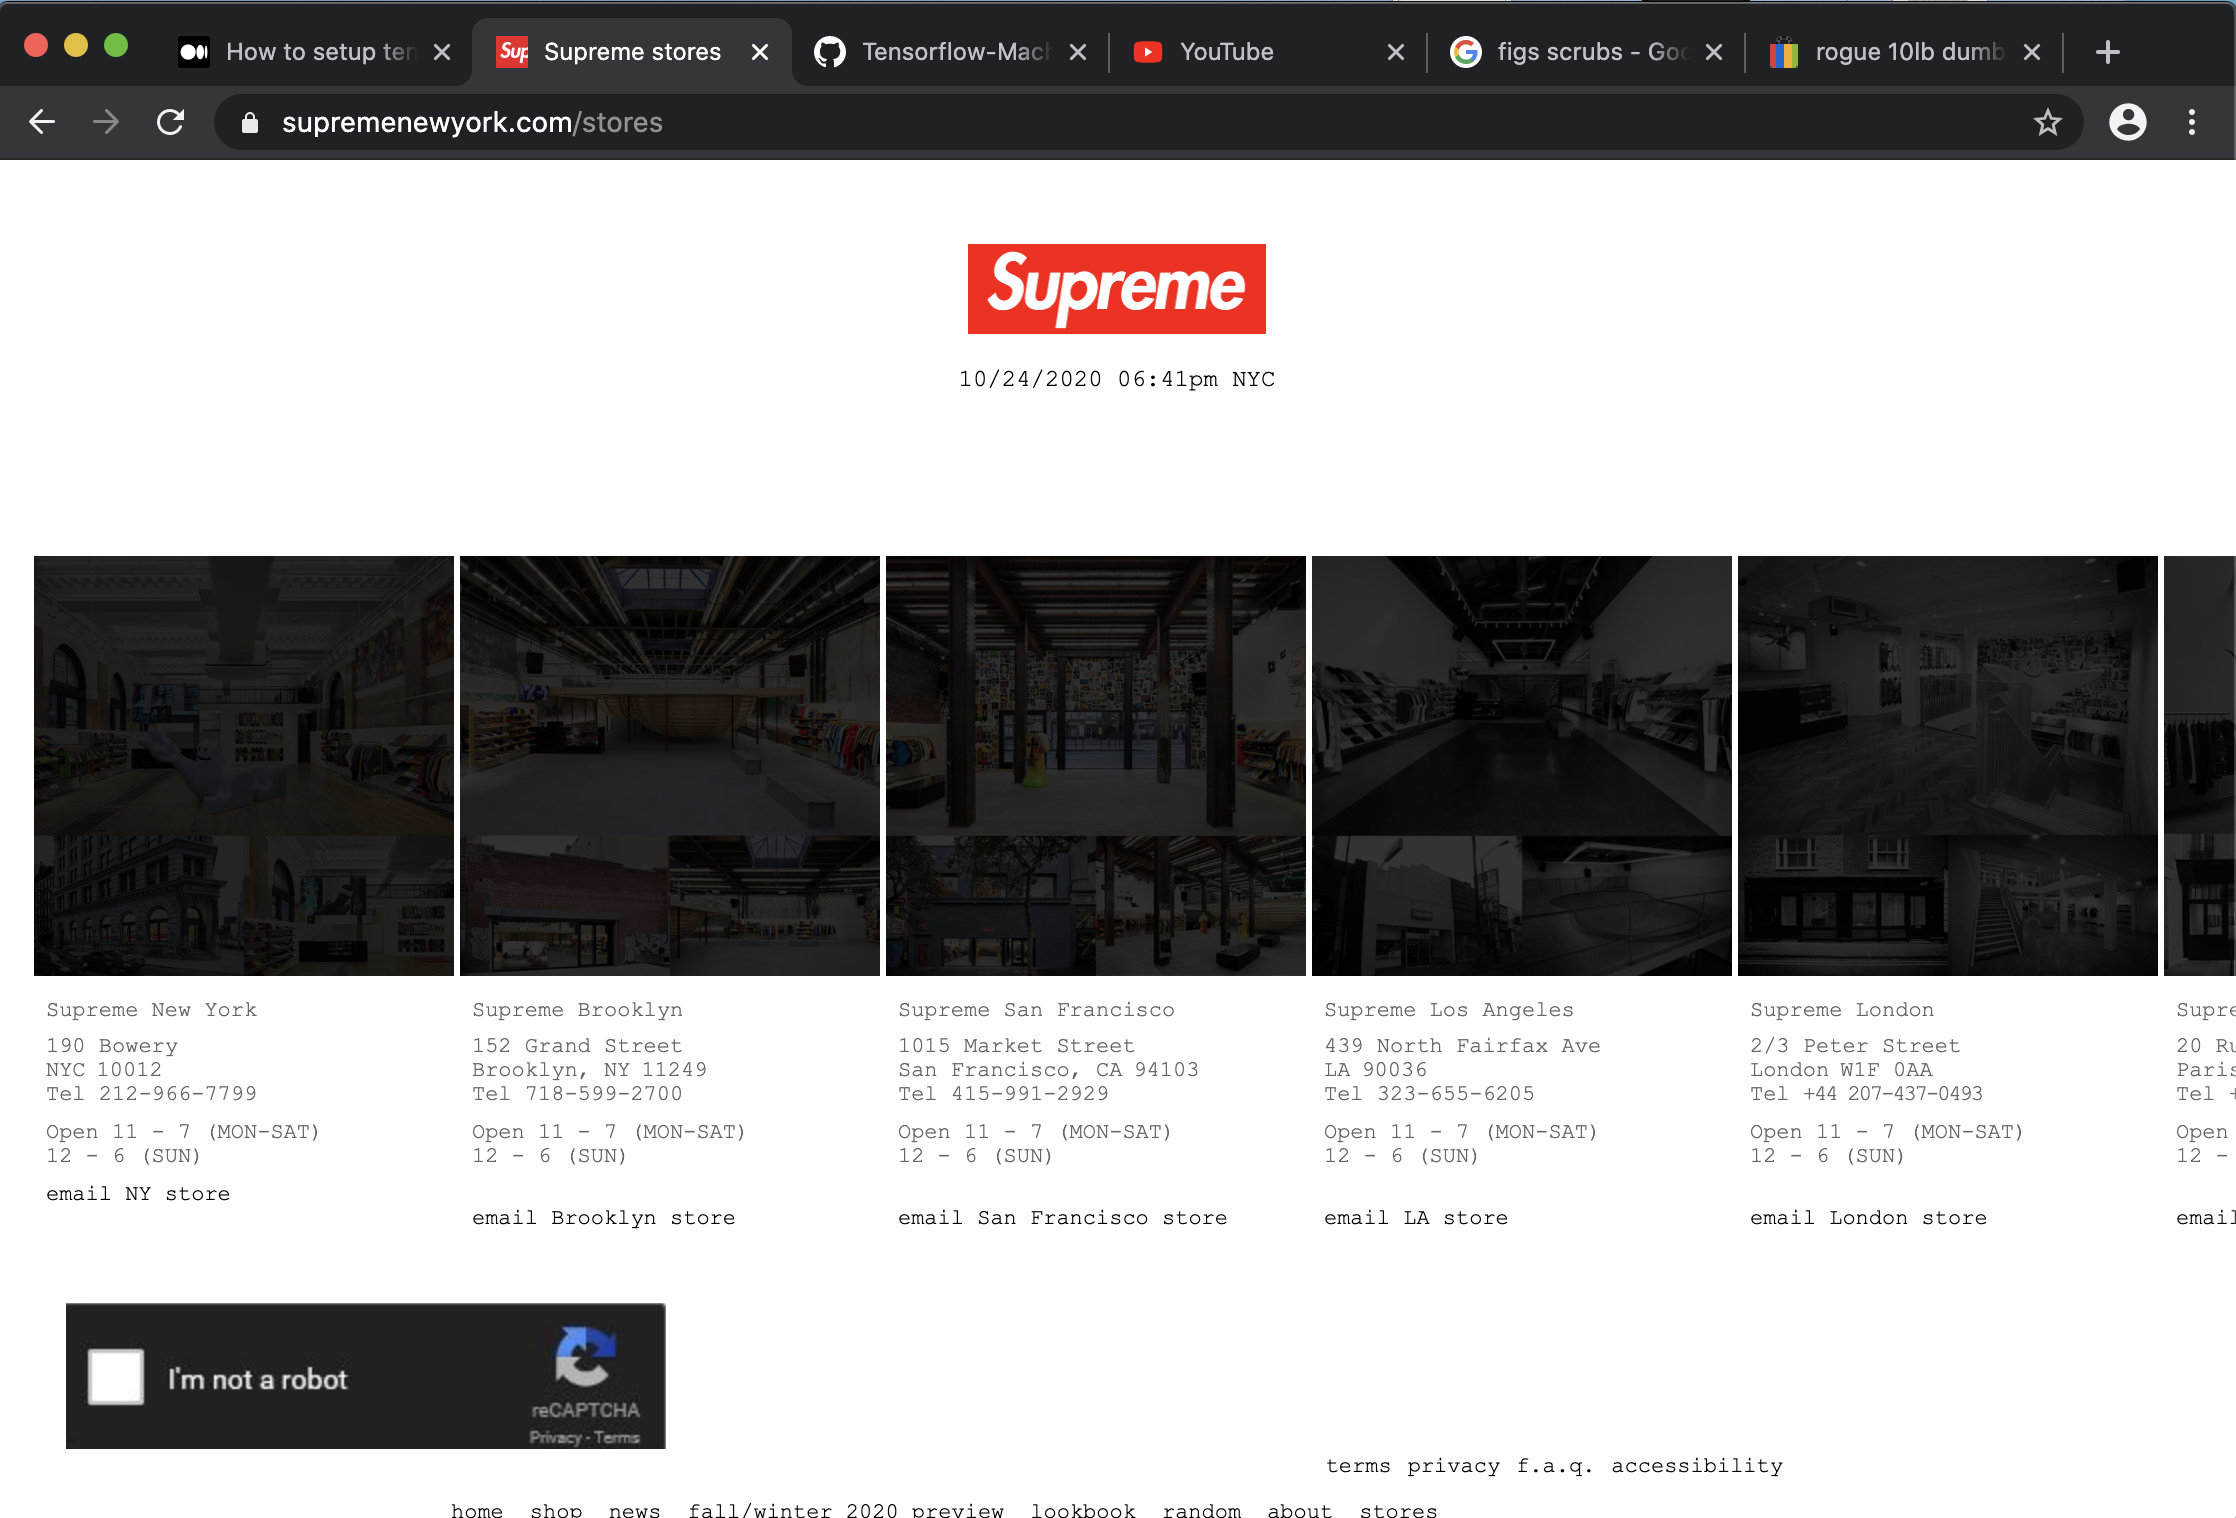captcha: (58, 1288, 688, 1467)
